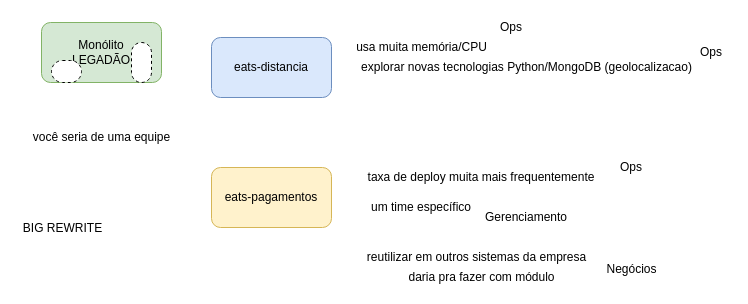
This 748x304 diagram has some shape labels left out. The shapes that lost their labels are listed below. From the top down, each one's centre as x and y in pixels, then its label:
At pixel 66 71: "eats-restaurante".
At pixel 141 62: "eats-pedido".
